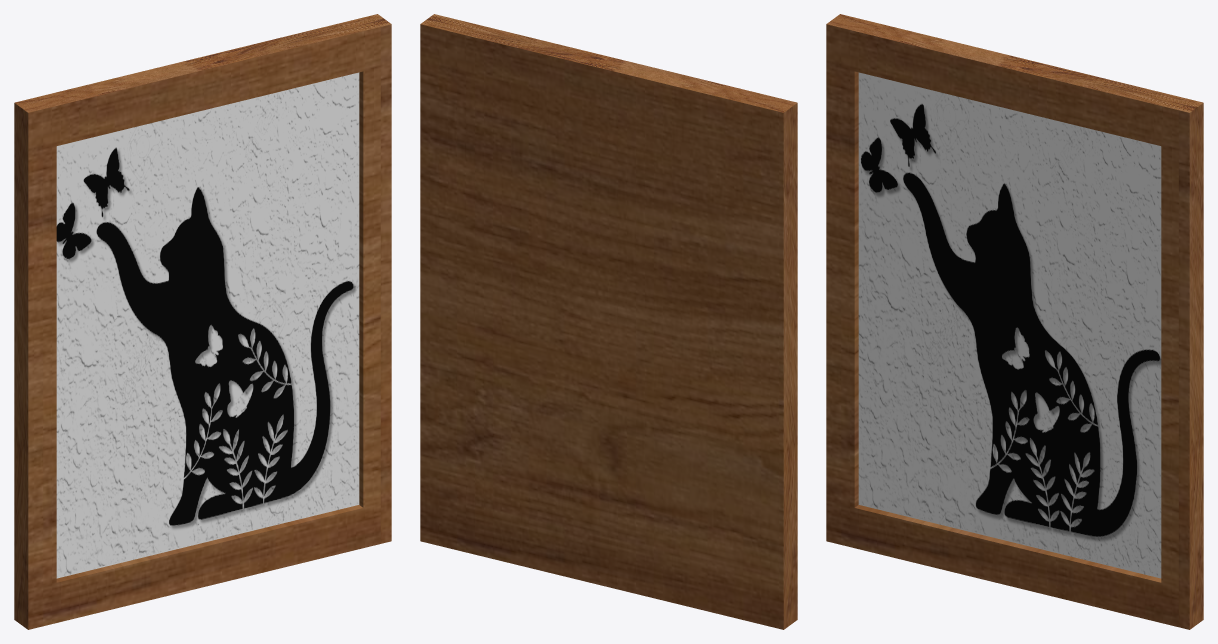
The model's file is painting 1.fbx.
3 views of the same model, side by side, from view 1: azimuth 30°, elevation 25°; view 2: azimuth 150°, elevation 25°; view 3: azimuth 330°, elevation 25° (orthographic).
Visible parts, largest first — view 1: Cube; view 2: Cube; view 3: Cube.
Boxes of the visible parts, <box> form: Cube: <box>14,14,391,629</box>; Cube: <box>420,14,797,629</box>; Cube: <box>826,14,1203,629</box>.
Size of the model in its own units: 0.1963 by 0.2668 by 0.0131.
